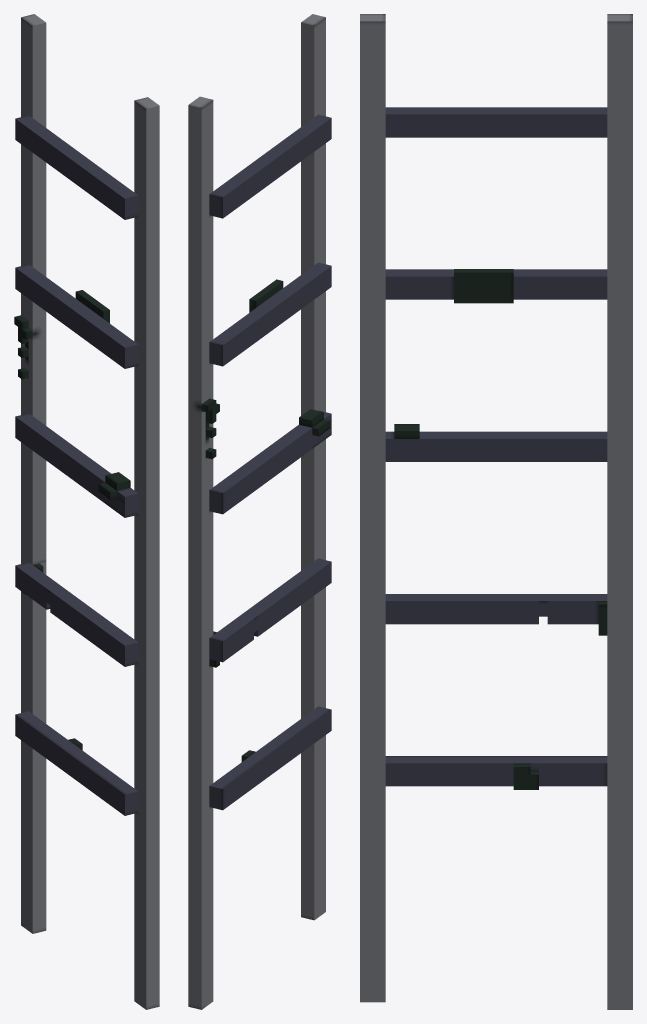
Rendered from Drabina.dae.
The picture shows the model from 3 angles, left to right: view 1: azimuth 30°, elevation 25°; view 2: azimuth 150°, elevation 25°; view 3: azimuth 270°, elevation 25°; orthographic projection. The views are drawn at different scales.
Visible parts, largest first — view 1: Drabina; view 2: Drabina; view 3: Drabina.
Boxes of the visible parts, <box> form: Drabina: <box>14,14,159,1009</box>; Drabina: <box>188,14,331,1009</box>; Drabina: <box>360,14,632,1009</box>.
Size of the model in its own units: 5 by 128 by 32.
Materials: 1 (1 with a texture image).
